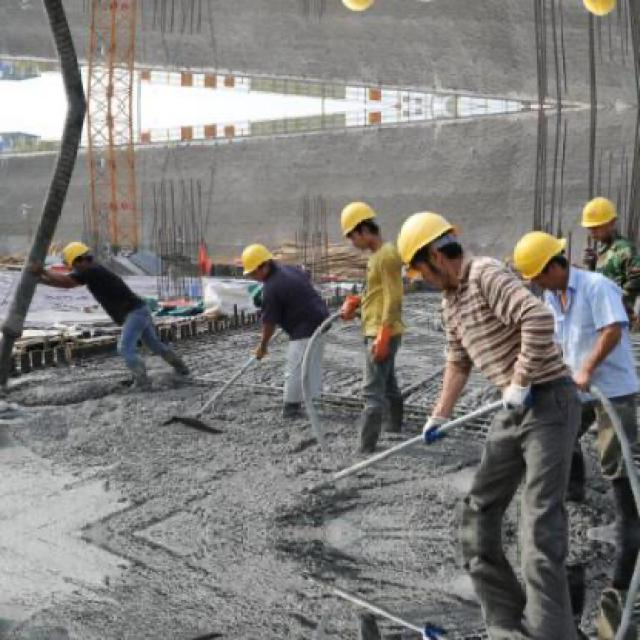helmet: (390, 206, 472, 294), (506, 225, 574, 290), (337, 196, 383, 256), (577, 191, 620, 244), (237, 240, 275, 284), (56, 238, 96, 274), (577, 0, 621, 23), (337, 0, 385, 19)
